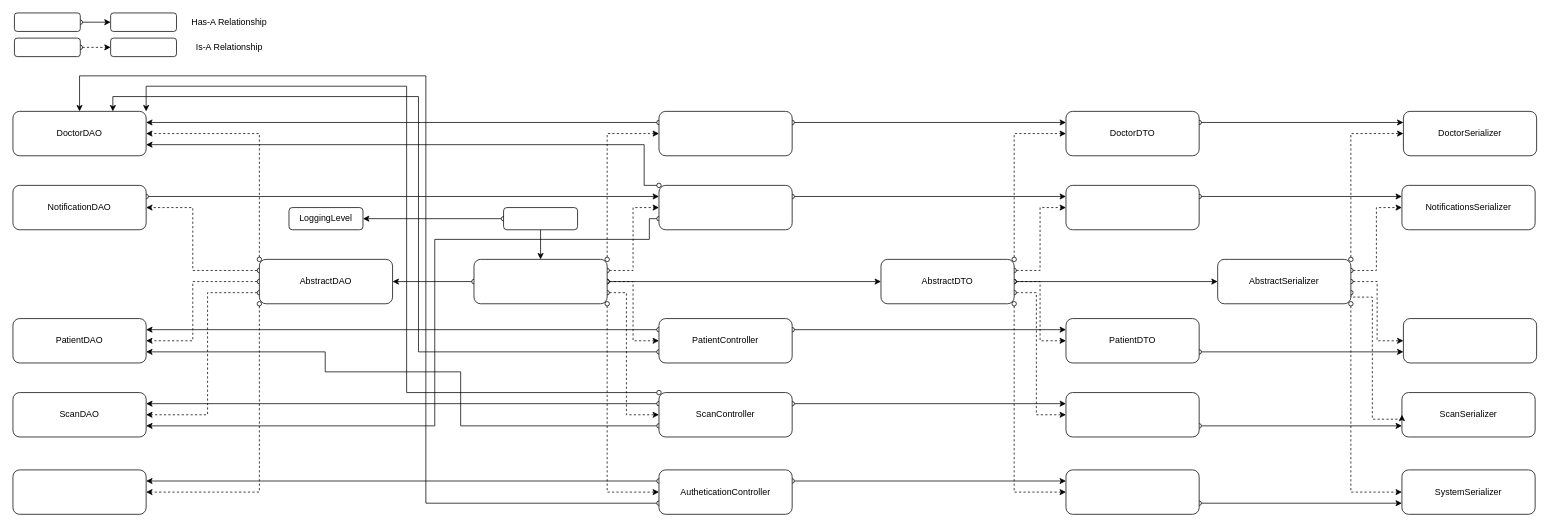
The diagram is 1550 pixels wide and 528 high, and some of its shapes have lost their labels. Each missing label, with the centre of its shape:
AbstractController: the point at 540,281
DoctorController: the point at 725,133
LoggingLayer: the point at 540,218
NotificationController: the point at 725,207
NotificationsDTO: the point at 1132,207
PatientSerializer: the point at 1470,340
ScanDTO: the point at 1132,414
SystemAuthDAO: the point at 79,491
SystemDTO: the point at 1132,491
